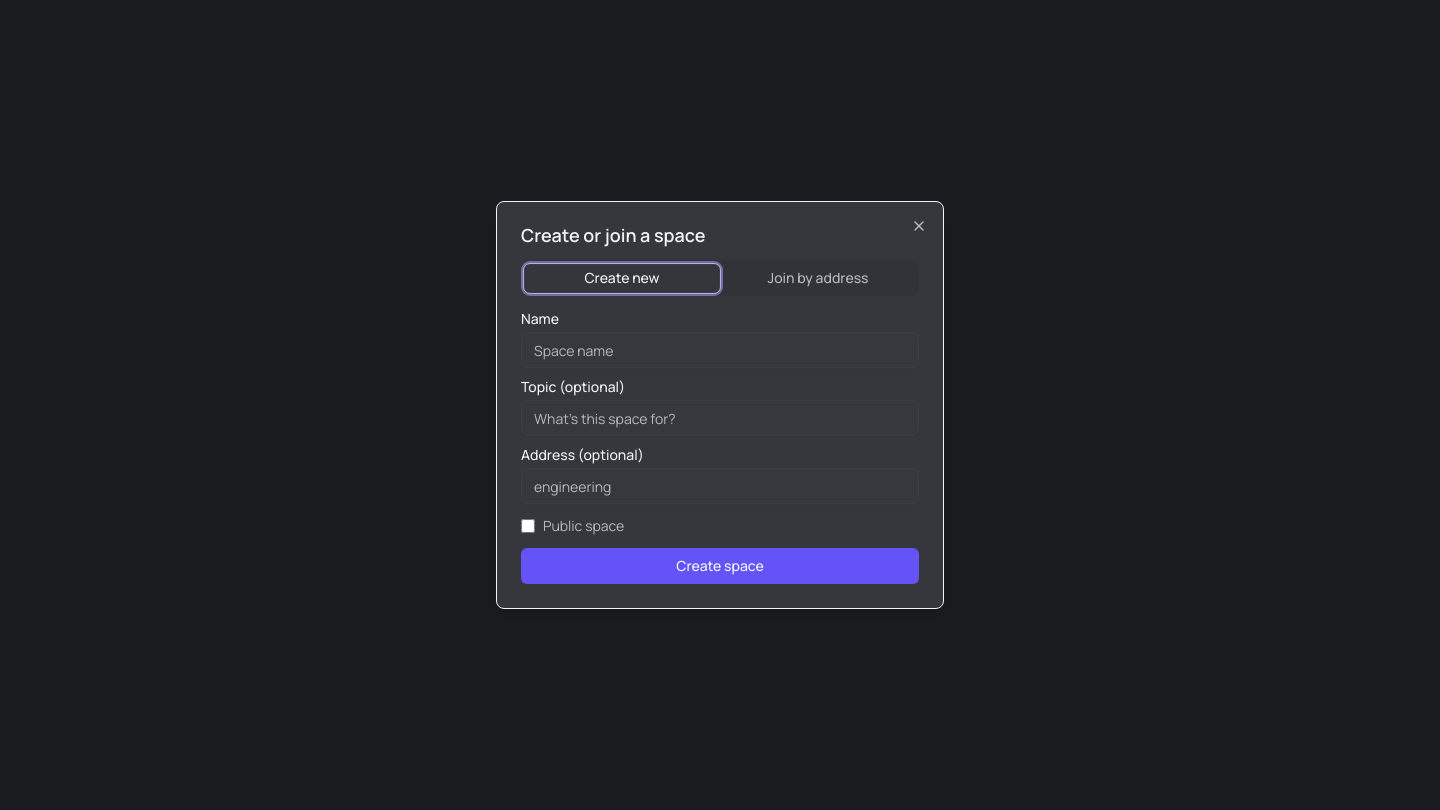
Test case: CreateJoinSpaceDialog › shows an error and does not close when creation fails
Type "Engineering" into the field labelled "Name" at (720, 350), box [521, 332, 919, 368]
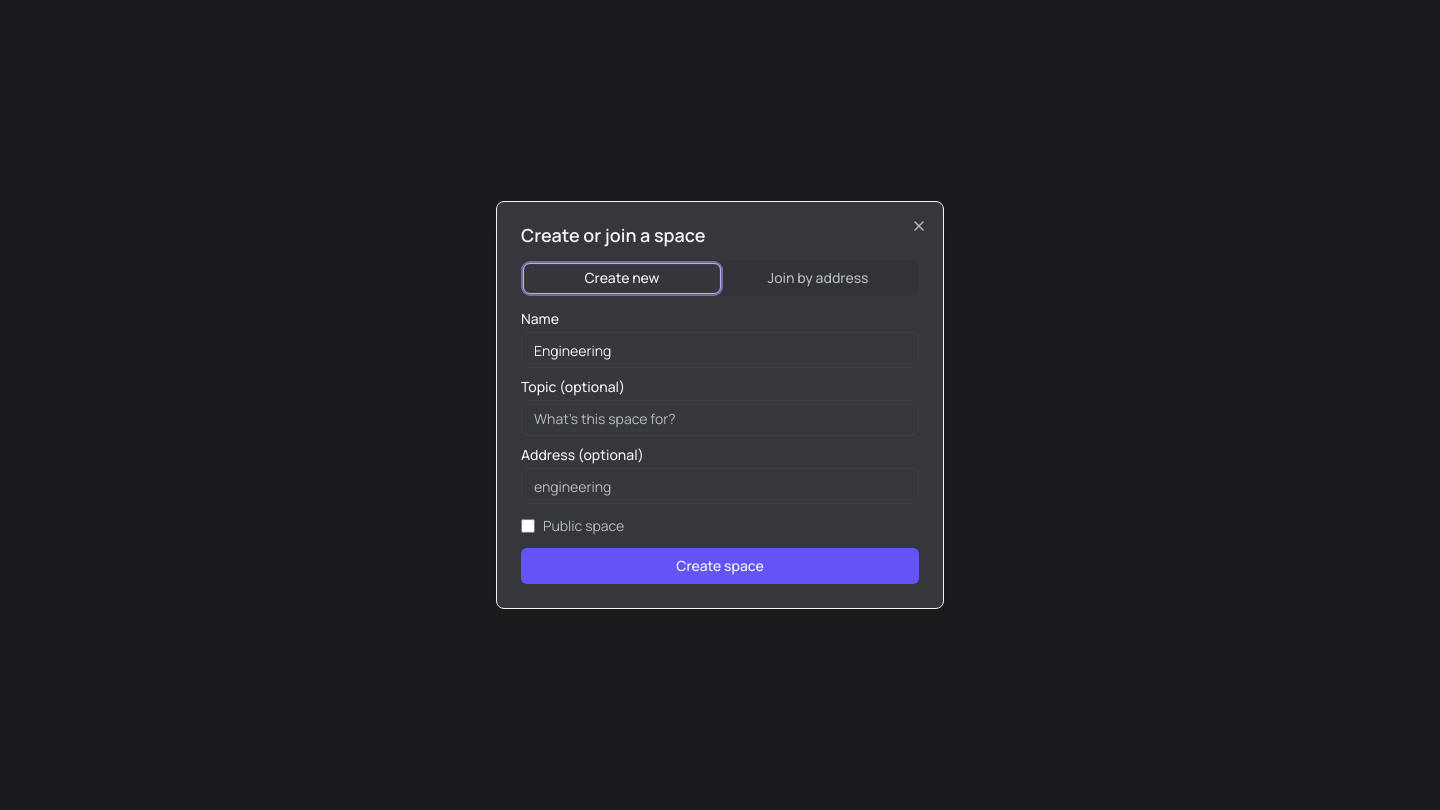
Click the button "Create space" at (720, 566), box [521, 548, 919, 584]
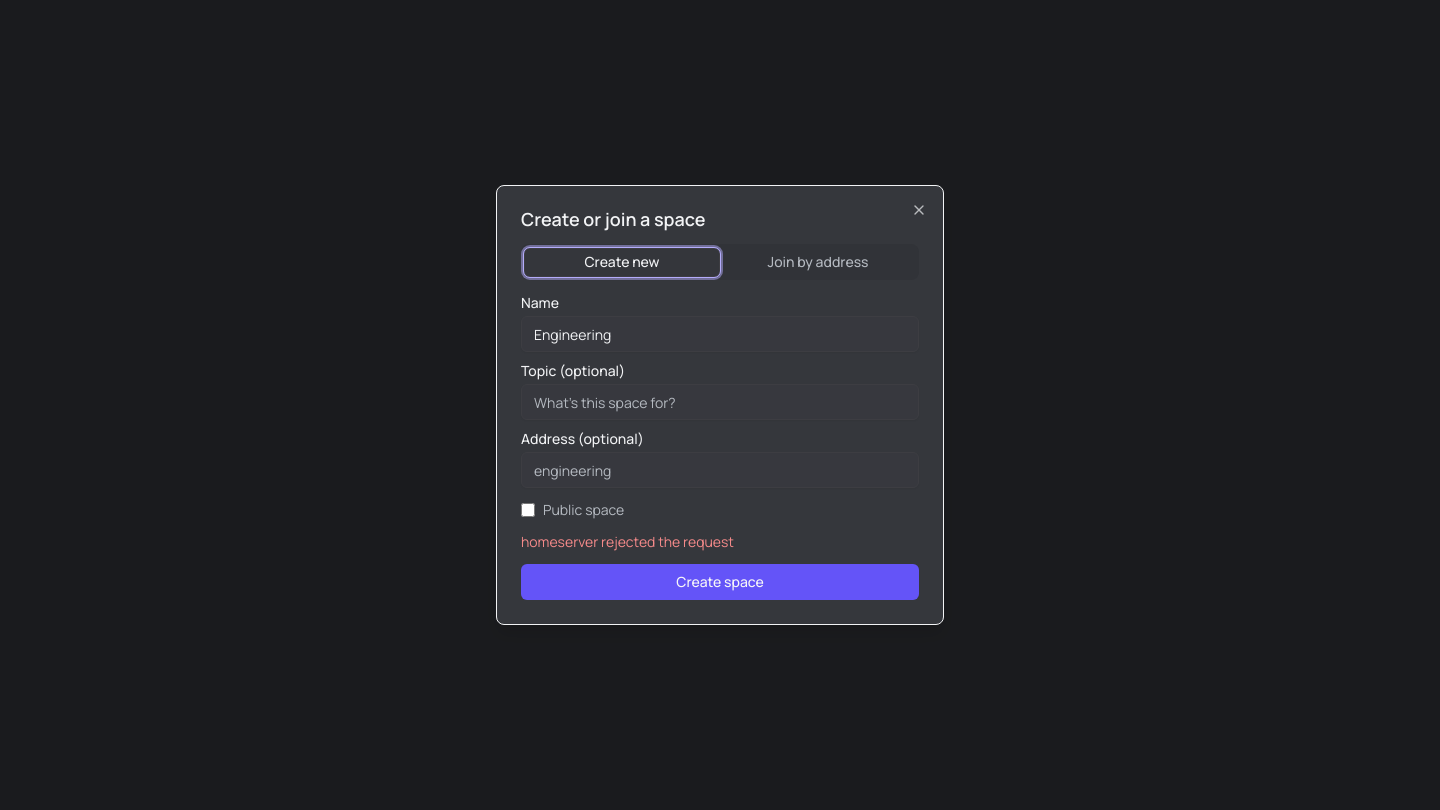
Result: the text "homeserver rejected the request" is shown at [521, 532, 734, 551]
